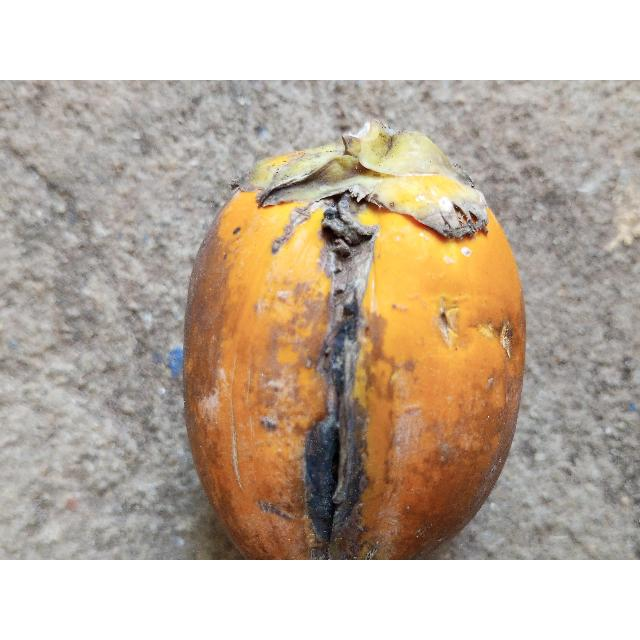damaged: (184, 121, 525, 560)
